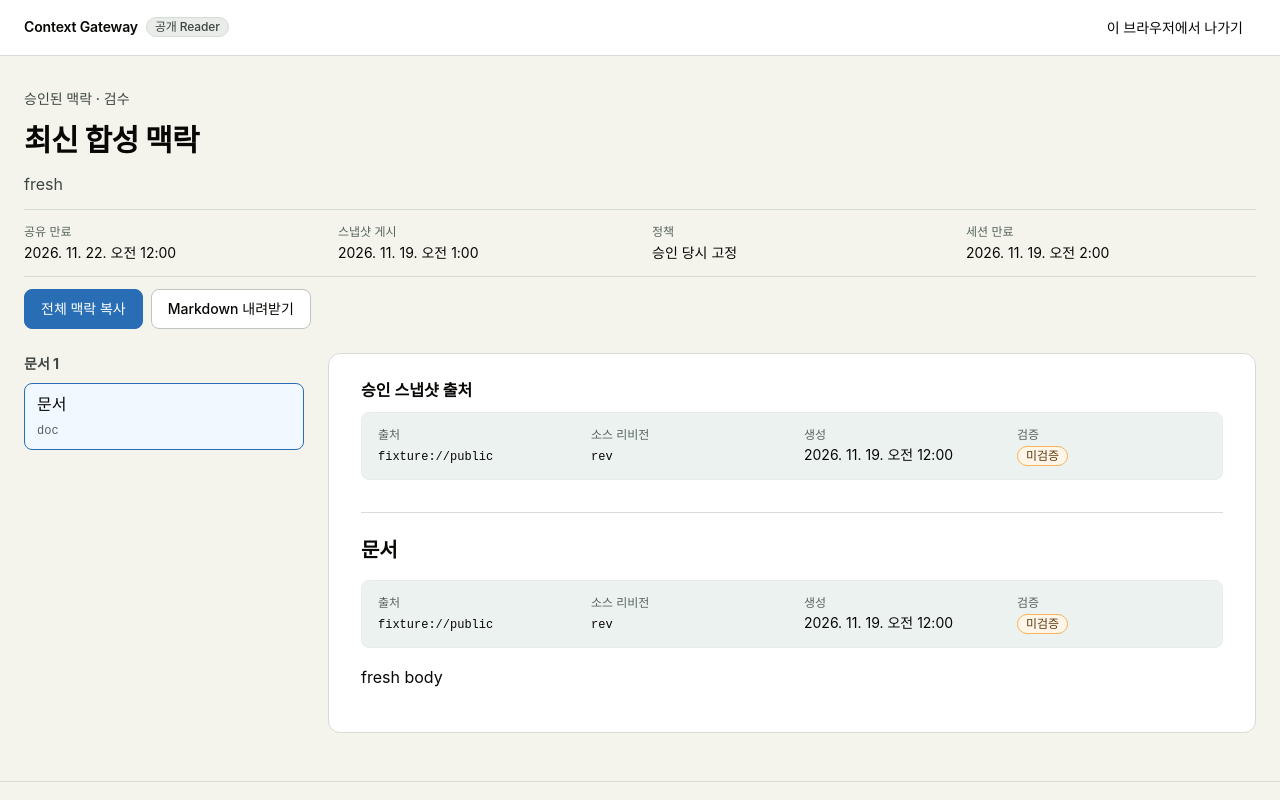
Scenario: 공개 Reader 독립 지연 반례 › 새 링크를 연 뒤 늦게 끝난 export 응답은 다운로드하지 않는다
The width and height of the screenshot is (1280, 800).
Expected: the heading "최신 합성 맥락" is shown, left=24, top=122, right=199, bottom=158
Click the button "Markdown 내려받기". click: click(231, 309)
box: left=151, top=289, right=311, bottom=329
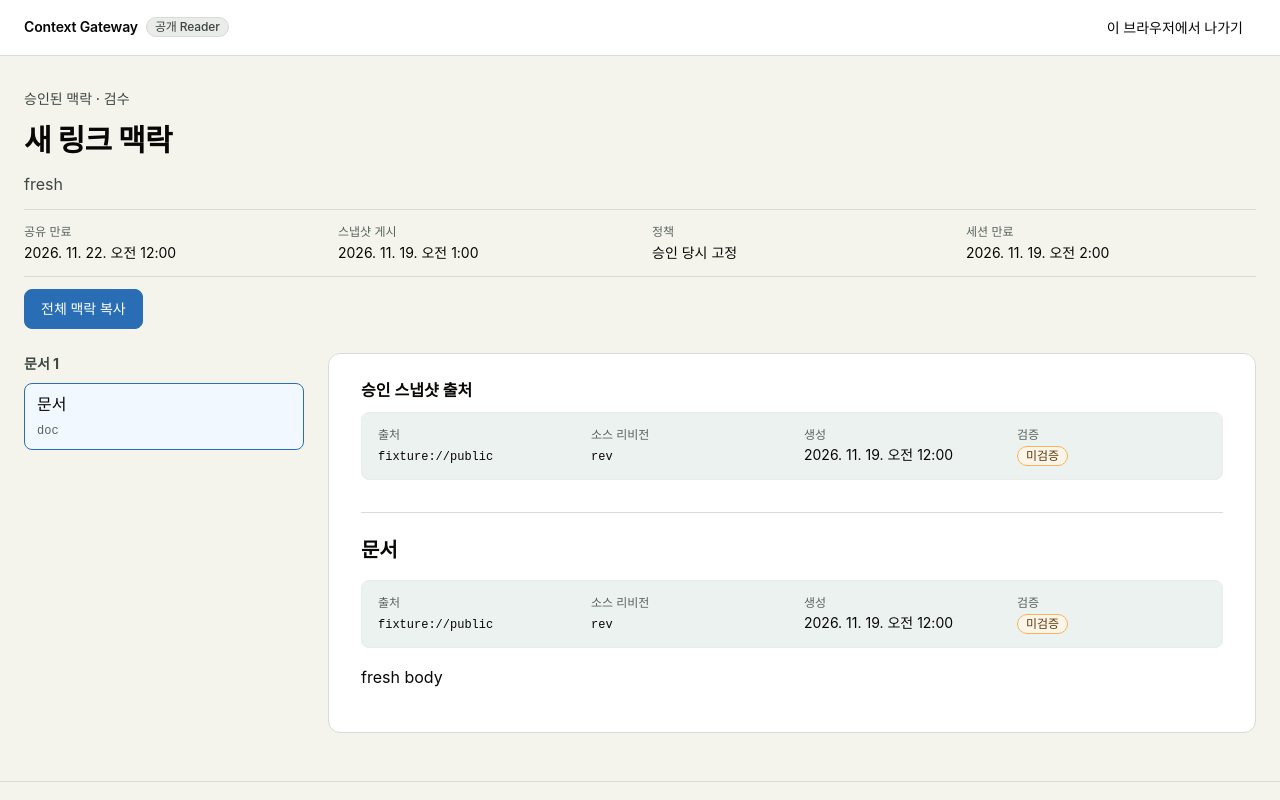
Expected: the heading "새 링크 맥락" is shown, left=24, top=122, right=172, bottom=158
